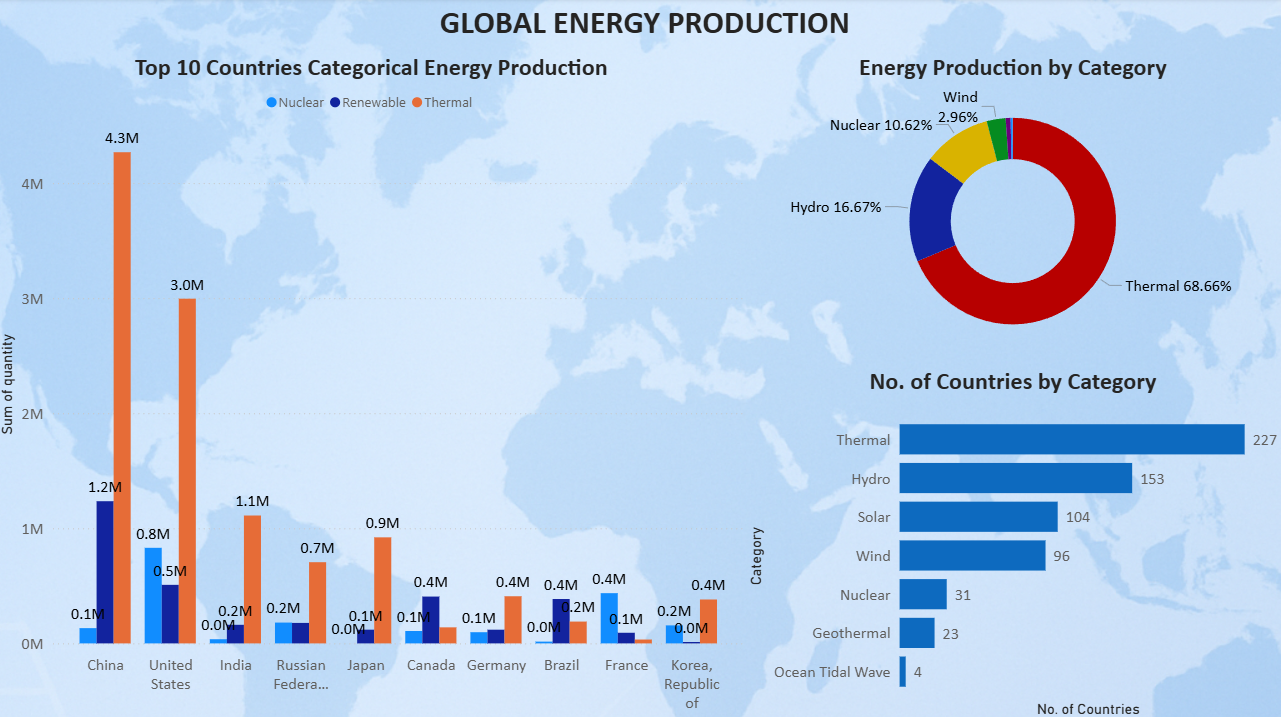

This screenshot's page, from the dashboard's own definition file:
{"tool":"powerbi","page":{"name":"Page 2","canvas":[1280,720],"ordinal":1},"visuals":[{"type":"donutChart","title":"Energy Production by Category","fields":{"Category":["EnergyData2.category"],"Y":["Sum(EnergyData2.quantity)"]},"box":[743,49.1,536.7,311.6],"z":0},{"type":"clusteredColumnChart","title":"Top 10 Countries Categorical Energy Production","fields":{"Category":["EnergyData2.country_or_area"],"Y":["Sum(EnergyData2.quantity)"],"Series":["EnergyData2.category (groups)"]},"box":[0,49.1,743,670.9],"z":1},{"type":"textbox","box":[10.1,0,1269.6,65.2],"z":2},{"type":"barChart","title":"No. of Countries by Category","fields":{"Category":["EnergyData2.category"],"Y":["CountNonNull(EnergyData2.Country)"]},"box":[743,360.7,536.7,359.2],"z":3}]}

Visuals, with their boxes in screenshot pixels (x1, y1, x2, y2), scaled from the page's 1280x720 canvas onto the 1281x717 screenshot:
"Energy Production by Category" donutChart: select_region(744, 49, 1280, 359)
"Top 10 Countries Categorical Energy Production" clusteredColumnChart: select_region(0, 49, 744, 716)
textbox: select_region(10, 0, 1280, 65)
"No. of Countries by Category" barChart: select_region(744, 359, 1280, 716)
